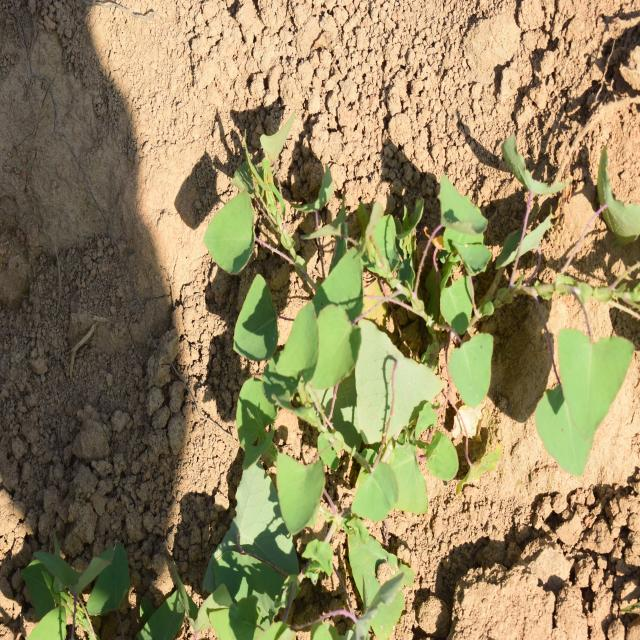Asiatic_Smartweed: (194, 128, 404, 390), (514, 293, 639, 471), (424, 179, 514, 412)
